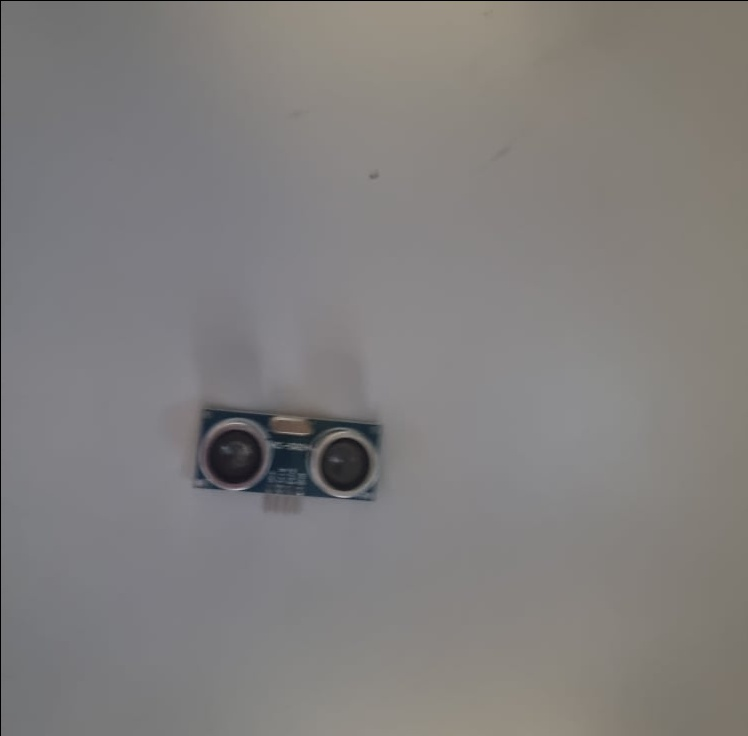SENSOR: (190, 402, 382, 514)
